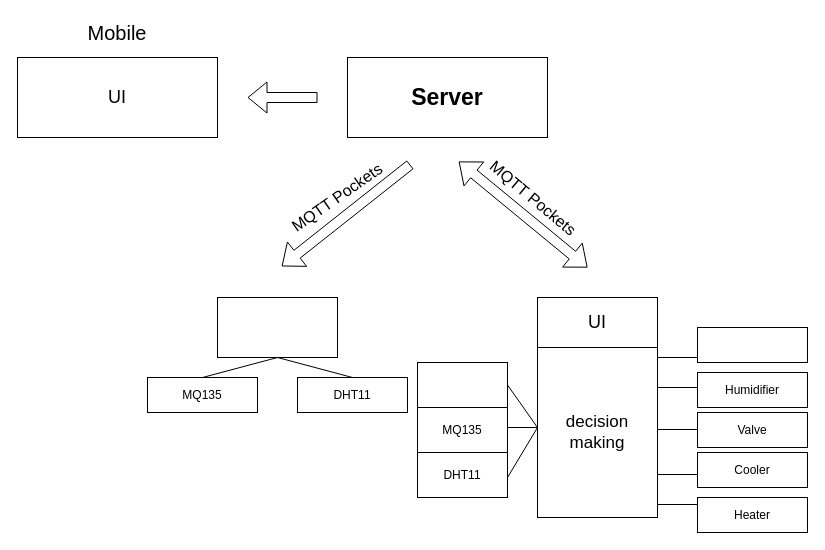
This 825x550 diagram has some shape labels left out. Each missing label, with the box of its shape:
External PCB: (216, 296, 338, 358)
Fan: (696, 326, 808, 362)
Moisture sensor: (416, 362, 508, 408)
